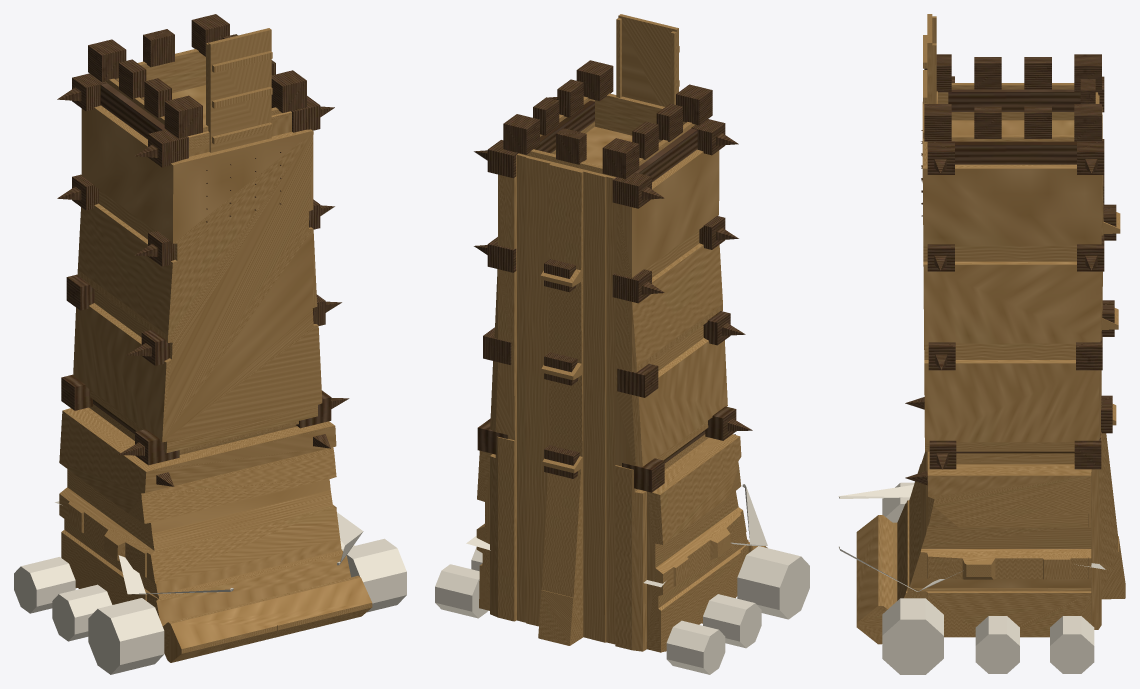
File: ae_siege_tower_open_large_lod0.glb
3 renders of one model, left to right at view 1: azimuth 30°, elevation 25°; view 2: azimuth 150°, elevation 25°; view 3: azimuth 270°, elevation 25°, orthographic. The views are drawn at different scales.
Visible parts, largest first — view 1: siege_tower_open_large, drawbridge; view 2: siege_tower_open_large, drawbridge; view 3: siege_tower_open_large, drawbridge.
Boxes of the visible parts, x1=… form: siege_tower_open_large: x1=14, y1=14, x2=406, y2=674; drawbridge: x1=206, y1=28, x2=272, y2=152; siege_tower_open_large: x1=435, y1=60, x2=809, y2=674; drawbridge: x1=616, y1=14, x2=679, y2=106; siege_tower_open_large: x1=838, y1=54, x2=1125, y2=674; drawbridge: x1=923, y1=14, x2=936, y2=148.
Size of the model in its own units: 67.27 by 133 by 59.65.
Materials: 3 (2 with a texture image).
